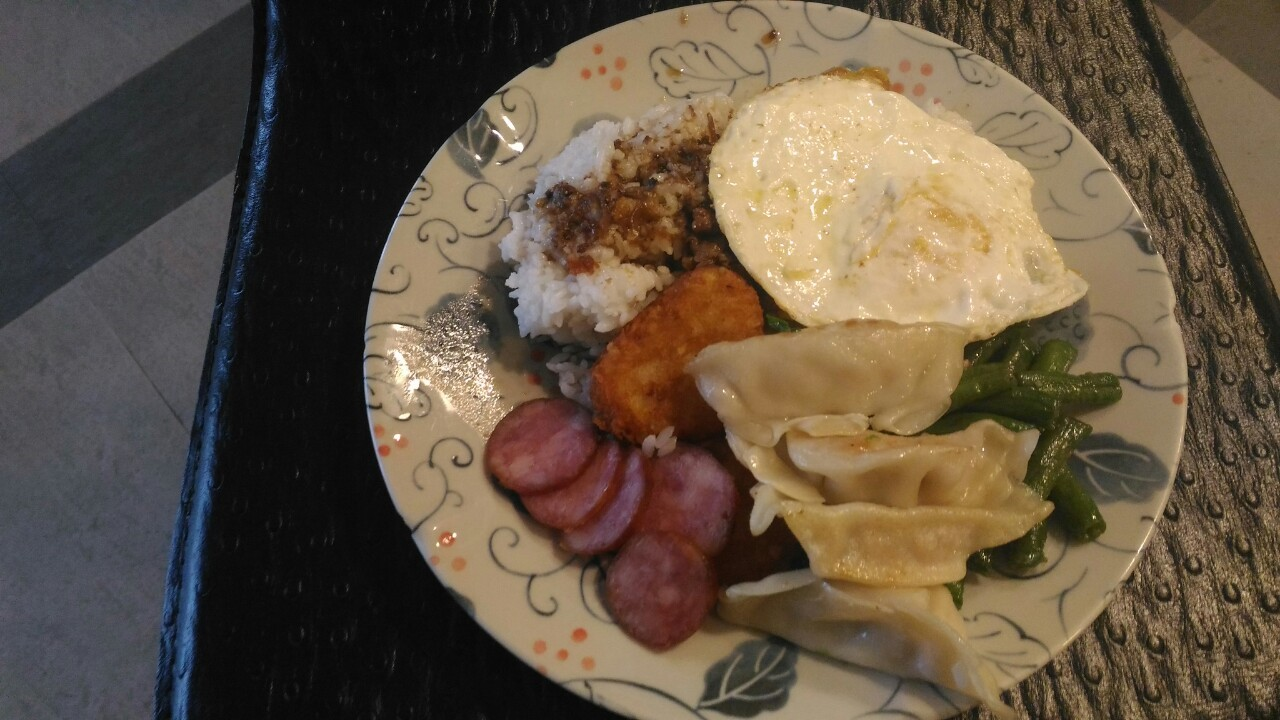chinese_sausage: (486, 399, 740, 648)
fried_dumplings: (708, 331, 1046, 682)
fried_eggs: (710, 68, 1094, 323)
rice: (510, 91, 729, 335)
triangle_hash_brown: (588, 262, 770, 442)
